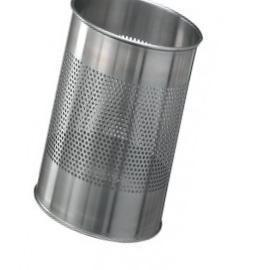Bote de Basura: (35, 0, 203, 245)
